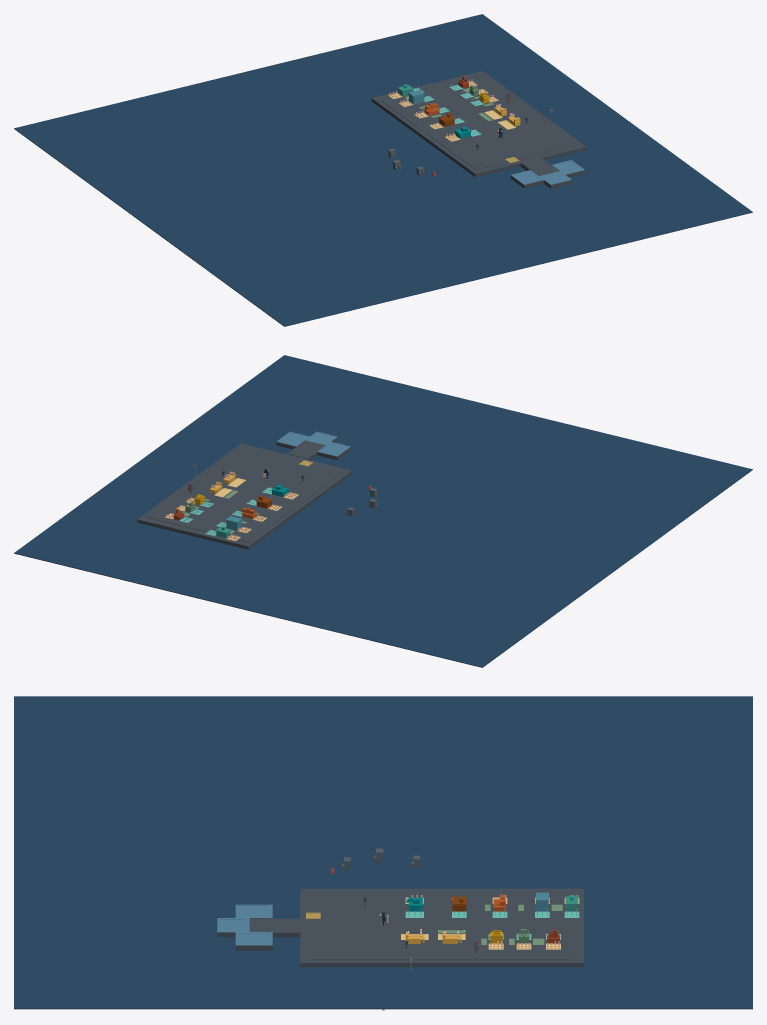
Rendered from storm_quay_blockout.glb.
3 renders of one model, top to bottom at view 1: azimuth 30°, elevation 25°; view 2: azimuth 150°, elevation 25°; view 3: azimuth 270°, elevation 25°, orthographic. The views are drawn at different scales.
Visible parts, largest first — view 1: Water, Ground_sq_land, Ground_sq_pier; view 2: Water, Ground_sq_land; view 3: Water, Ground_sq_land, Ground_sq_pier, Zone_sq_east, Zone_sq_west.
Part boxes in pixels (x1,y1,x2,y2): Water: [14, 14, 752, 326]; Ground_sq_land: [371, 71, 586, 177]; Ground_sq_pier: [520, 157, 571, 188]; Water: [14, 355, 752, 667]; Ground_sq_land: [137, 443, 352, 549]; Water: [14, 696, 752, 1009]; Ground_sq_land: [300, 888, 583, 967]; Ground_sq_pier: [217, 918, 302, 937]; Zone_sq_east: [235, 932, 272, 945]; Zone_sq_west: [235, 904, 272, 917].
Size of the model in its own units: 80 by 11.84 by 80.
